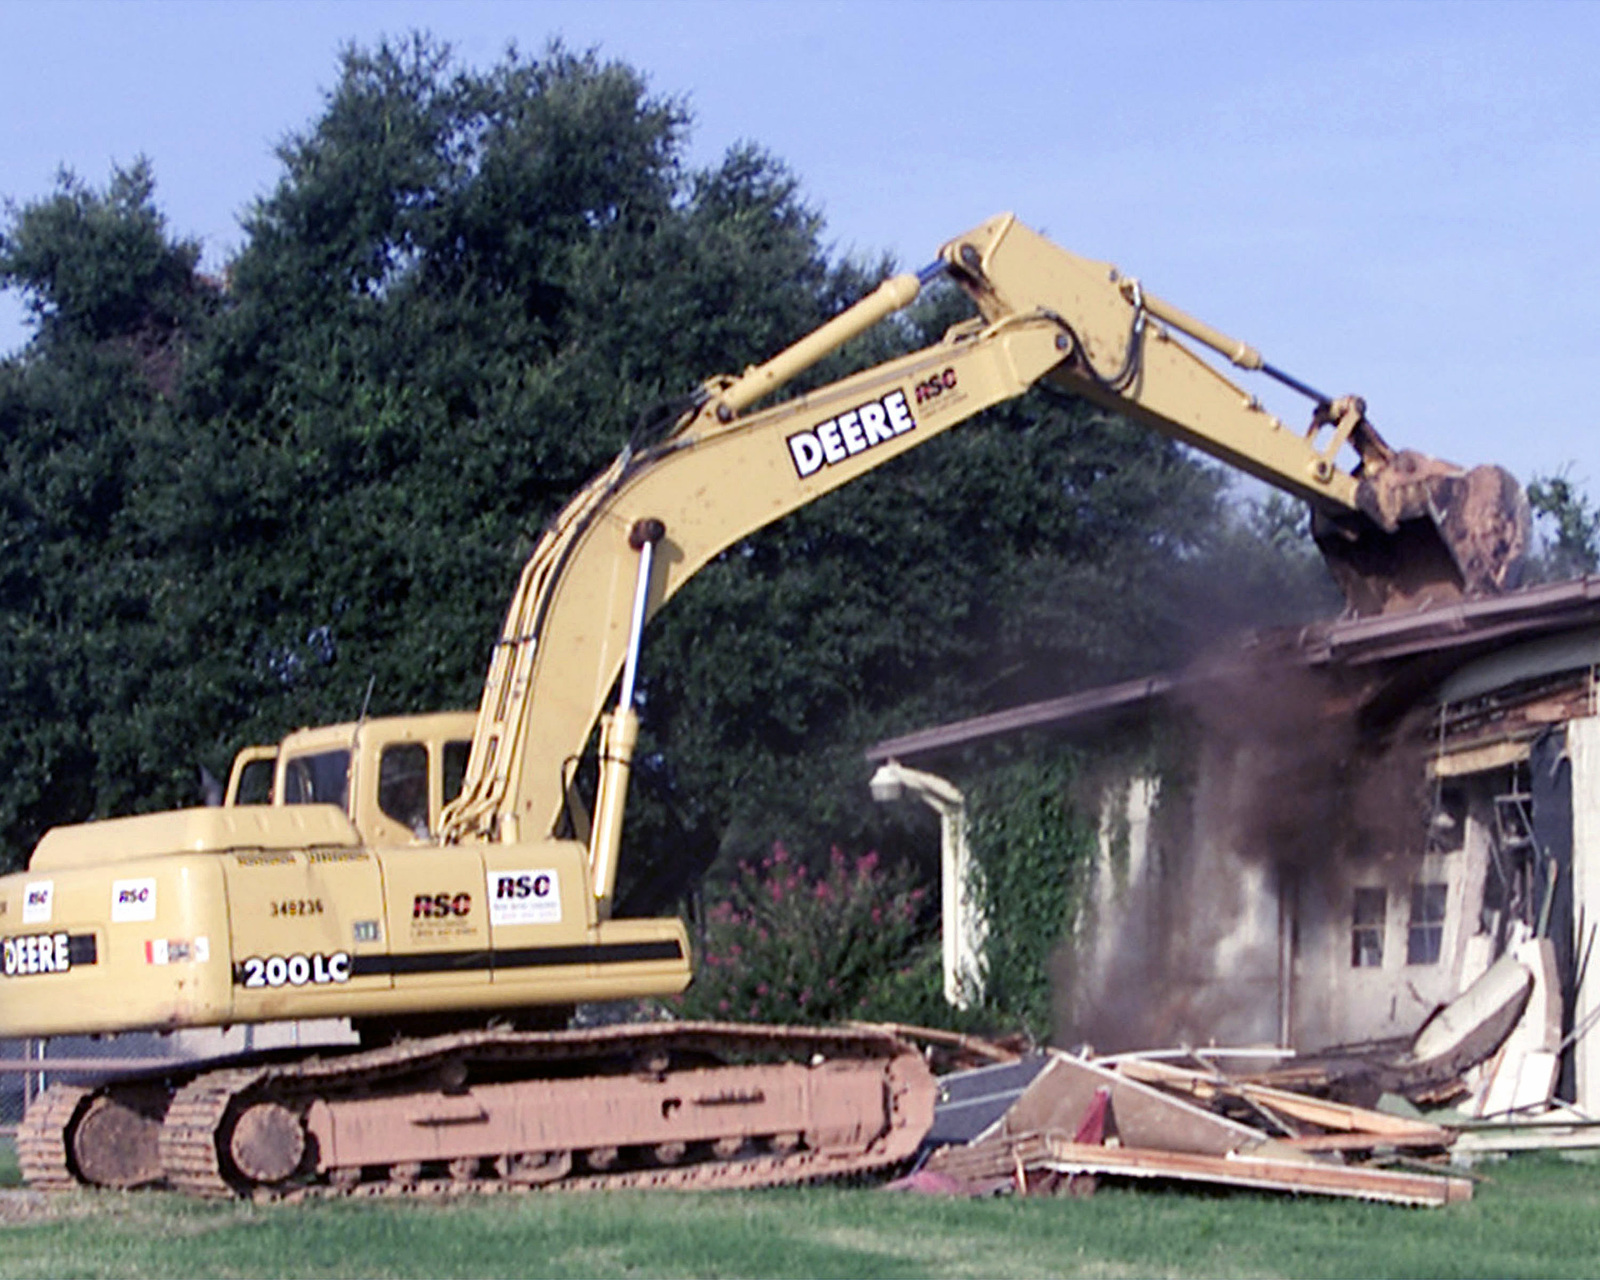excavator: (0, 212, 1539, 1219)
